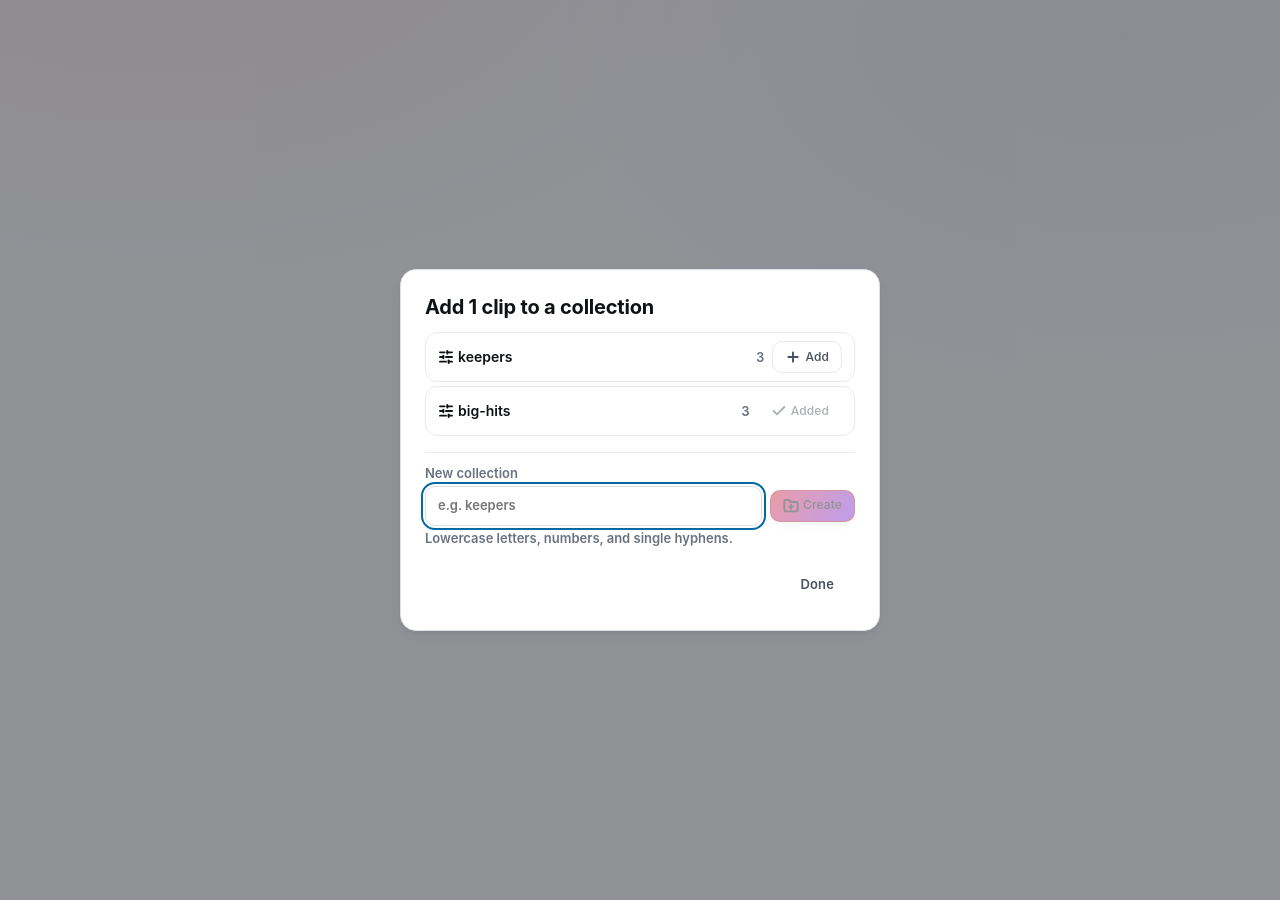
Test: a rejected add surfaces the server's message instead of closing
Check: the text "keepers" is shown, box 438,348 -> 512,365
Click the button "Add": (807, 357) 772,341 -> 842,373
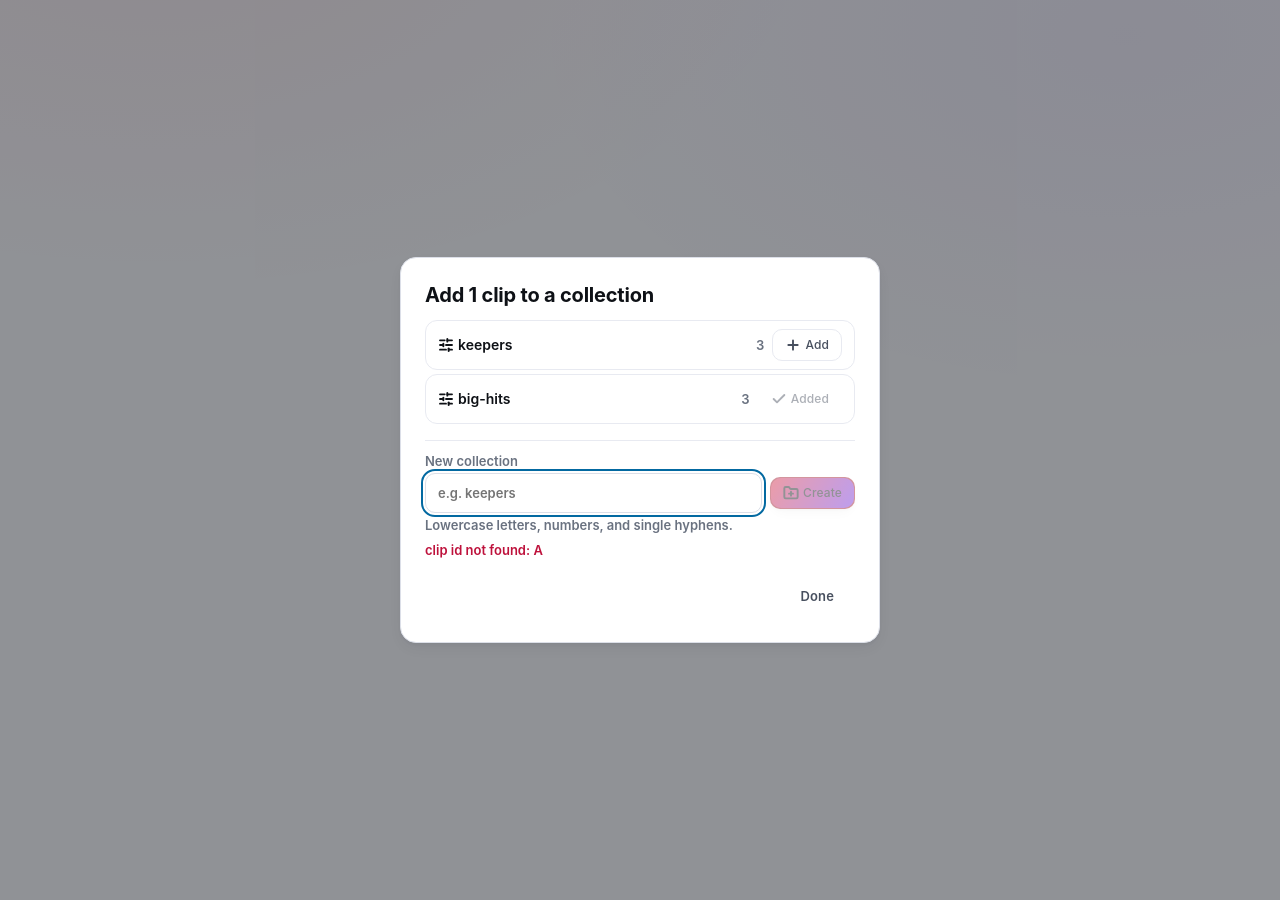
Check: the message reads "clip id not found: A", box 425,542 -> 543,558
